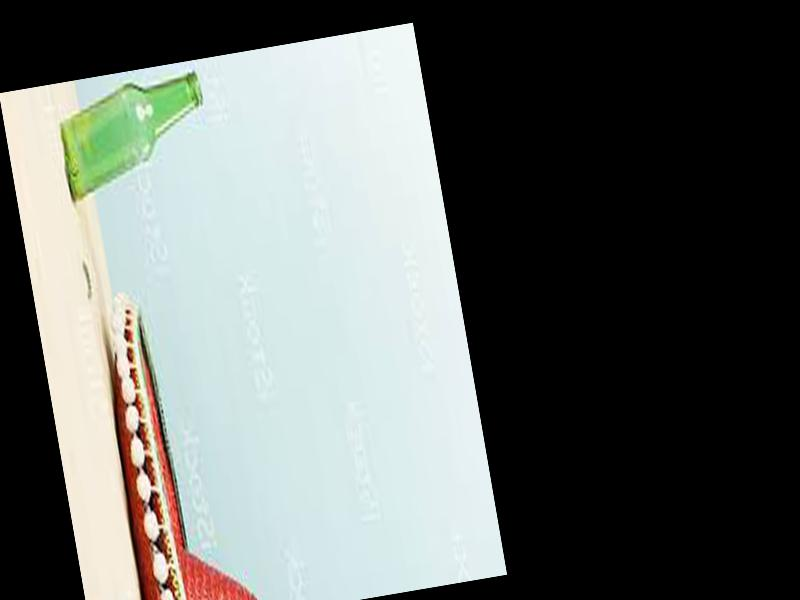Beer: (50, 74, 217, 205)
